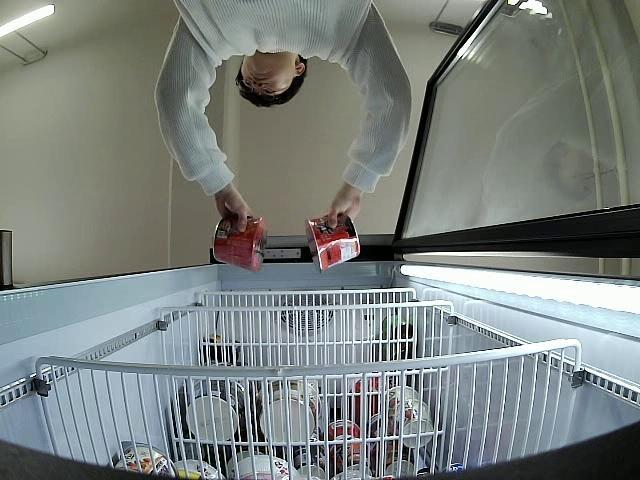01_ShinRamen_L: (210, 211, 266, 275), (306, 210, 360, 275)
